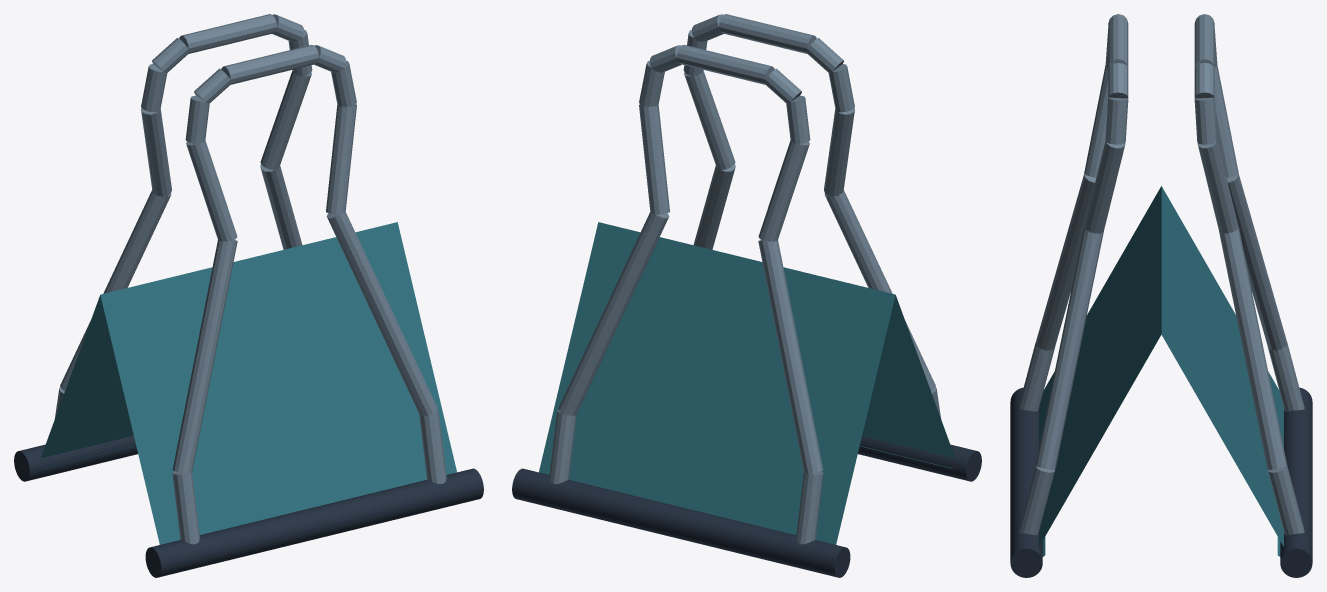
The model's file is binder.glb.
The picture shows the model from 3 angles, left to right: view 1: azimuth 30°, elevation 25°; view 2: azimuth 150°, elevation 25°; view 3: azimuth 270°, elevation 25°; orthographic projection. The views are drawn at different scales.
Parts seen in each view (by area): view 1: fold 0, front lip, fold 1, wire 11, wire 19, rear lip, wire -11, wire 18, wire 12, wire -18, wire -15, wire 15 (+9 smaller); view 2: fold 1, rear lip, fold 0, wire -11, wire -19, front lip, wire 11, wire -18, wire -12, wire 18, wire 15, wire -15 (+9 smaller); view 3: fold 0, fold 1, wire -19, wire 19, rear lip, front lip, wire -11, wire 11, wire -18, wire 18, wire -110, wire 110 (+10 smaller).
Part boxes in pixels (left/top/right/bottom): fold 0: left=100, top=222, right=456, bottom=544; front lip: left=145, top=468, right=483, bottom=577; fold 1: left=41, top=295, right=133, bottom=458; wire 11: left=172, top=240, right=237, bottom=473; wire 19: left=326, top=211, right=437, bottom=416; rear lip: left=14, top=436, right=137, bottom=481; wire -11: left=60, top=190, right=171, bottom=391; wire 18: left=326, top=104, right=356, bottom=214; wire 12: left=186, top=140, right=237, bottom=241; wire -18: left=260, top=70, right=311, bottom=169; wire -15: left=179, top=14, right=276, bottom=53; wire 15: left=221, top=45, right=319, bottom=84; fold 1: left=539, top=222, right=895, bottom=544; rear lip: left=512, top=468, right=850, bottom=577; fold 0: left=862, top=295, right=954, bottom=458; wire -11: left=758, top=240, right=823, bottom=473; wire -19: left=558, top=211, right=669, bottom=416; front lip: left=858, top=436, right=981, bottom=481; wire 11: left=824, top=190, right=935, bottom=391; wire -18: left=639, top=104, right=669, bottom=214; wire -12: left=758, top=140, right=809, bottom=241; wire 18: left=684, top=70, right=735, bottom=169; wire 15: left=719, top=14, right=816, bottom=53; wire -15: left=676, top=45, right=774, bottom=84; fold 0: left=1039, top=186, right=1161, bottom=546; fold 1: left=1161, top=186, right=1283, bottom=546; wire -19: left=1219, top=228, right=1287, bottom=469; wire 19: left=1035, top=228, right=1103, bottom=469; rear lip: left=1280, top=387, right=1312, bottom=577; front lip: left=1010, top=387, right=1042, bottom=577; wire -11: left=1226, top=174, right=1287, bottom=350; wire 11: left=1035, top=174, right=1096, bottom=350; wire -18: left=1197, top=141, right=1238, bottom=233; wire 18: left=1084, top=141, right=1125, bottom=233; wire -110: left=1267, top=466, right=1304, bottom=535; wire 110: left=1018, top=466, right=1055, bottom=535.
Size of the model in its own units: 1.02 by 1.36 by 0.806.
